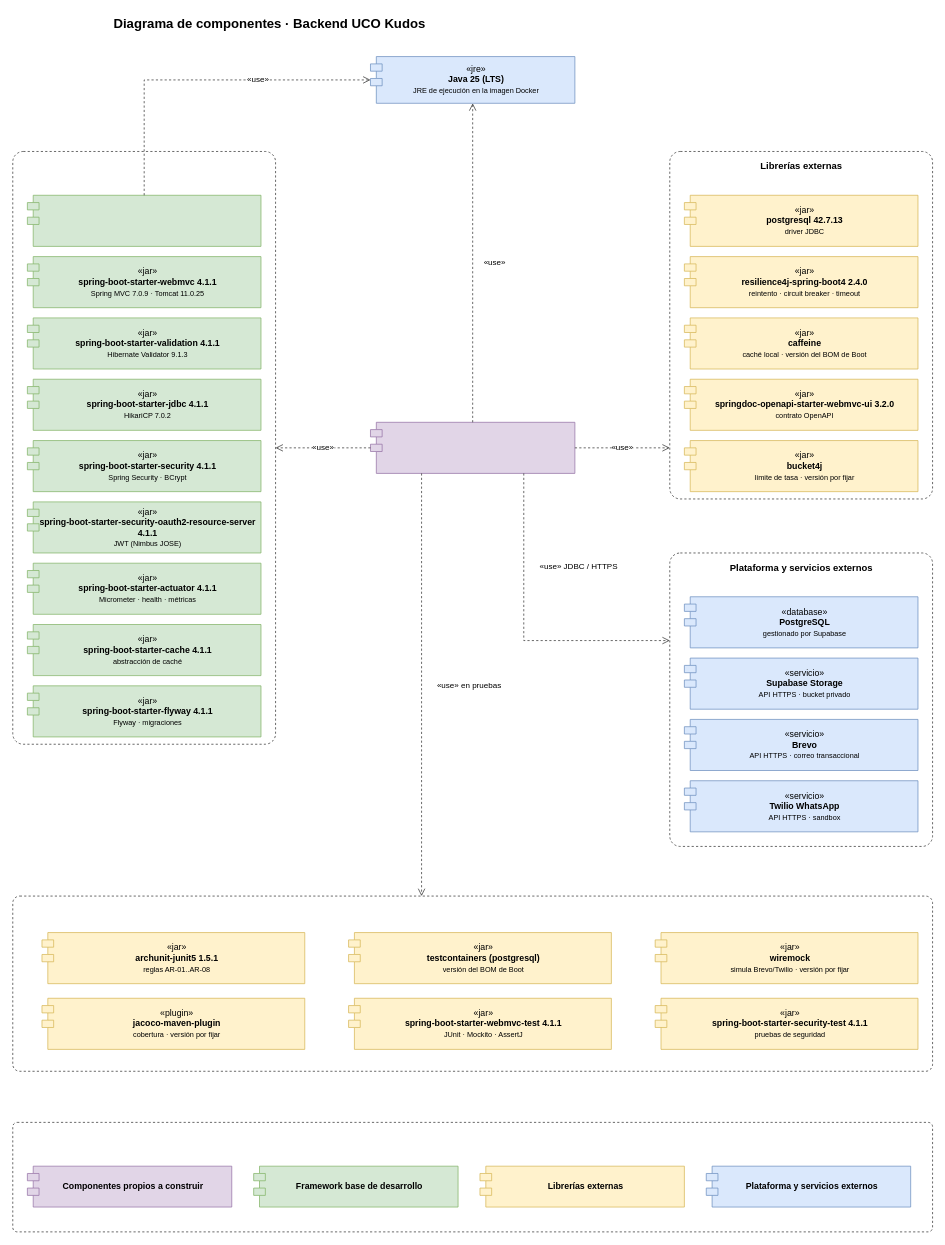
Some shapes in this 945 by 1245 pixel diagram are drawn without their labels. Each missing label, with the box of its shape:
Framework base · Spring Boot 4.1.1: (12, 151, 276, 744)
Pruebas (scope test): (12, 895, 933, 1071)
Tipos de componentes: (12, 1122, 933, 1232)
«Framework» spring-boot-starter-parent 4.1.1: (27, 195, 261, 246)
«jar» UCO Kudos API uco-kudos-backend 0.0.1: (370, 422, 575, 473)
